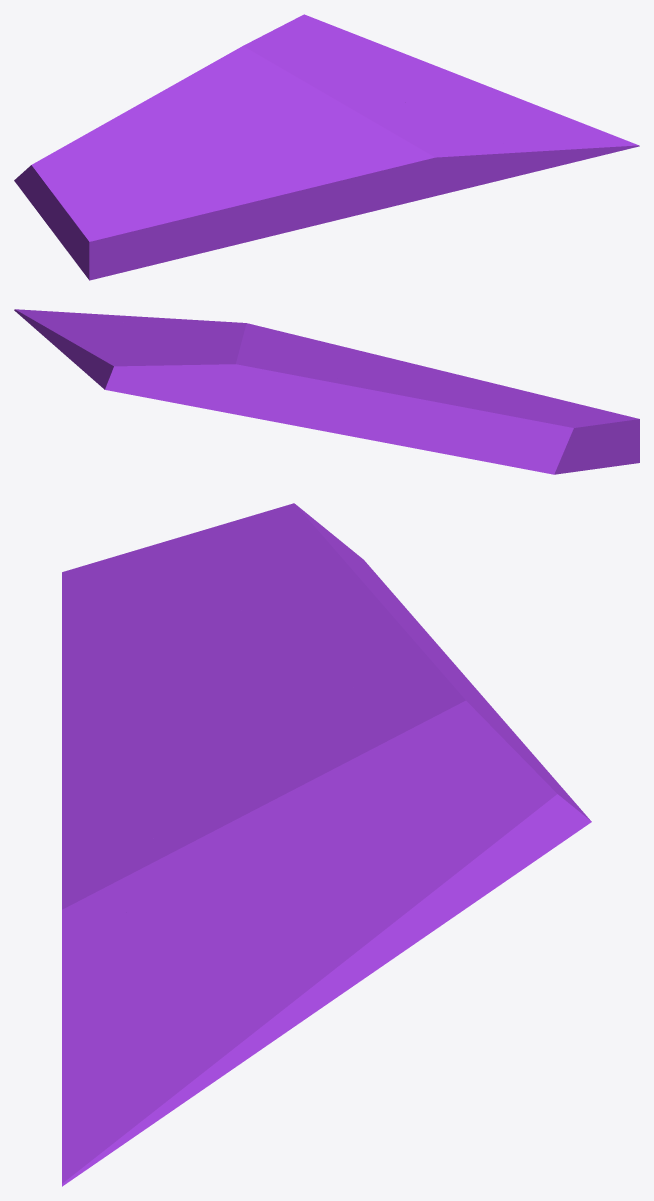
Rendered from Window_164_0_chunks.fbx.
3 renders of one model, top to bottom at view 1: azimuth 30°, elevation 25°; view 2: azimuth 150°, elevation 25°; view 3: azimuth 270°, elevation 25°, orthographic. The views are drawn at different scales.
Parts seen in each view (by area): view 1: Window_164_0_1, Window_164_0_4, Window_164_0_3, Window_164_0_9, Window_164_0_7, Window_164_0_14, Window_164_0_10, Window_164_0_12, Window_164_0_5, Window_164_0_23, Window_164_0_15, Window_164_0_21 (+7 smaller); view 2: Window_164_0_10, Window_164_0_8, Window_164_0_1, Window_164_0_13, Window_164_0_9, Window_164_0_3, Window_164_0_7, Window_164_0_4, Window_164_0_14, Window_164_0_5, Window_164_0_12, Window_164_0_20 (+6 smaller); view 3: Window_164_0_9, Window_164_0_1, Window_164_0_3, Window_164_0_7, Window_164_0_14, Window_164_0_4, Window_164_0_5, Window_164_0_20, Window_164_0_10, Window_164_0_15, Window_164_0_23, Window_164_0_12 (+6 smaller).
Part boxes in pixels (x1,y1,x2,y2): Window_164_0_1: (19, 158, 252, 280); Window_164_0_4: (272, 131, 443, 235); Window_164_0_3: (180, 92, 280, 240); Window_164_0_9: (260, 14, 478, 82); Window_164_0_7: (189, 53, 334, 124); Window_164_0_14: (431, 91, 593, 128); Window_164_0_10: (14, 118, 146, 187); Window_164_0_12: (137, 89, 217, 159); Window_164_0_5: (340, 105, 441, 156); Window_164_0_23: (537, 128, 639, 168); Window_164_0_15: (412, 99, 466, 193); Window_164_0_21: (452, 151, 547, 191); Window_164_0_10: (425, 397, 573, 474); Window_164_0_8: (156, 359, 320, 428); Window_164_0_1: (447, 378, 639, 473); Window_164_0_13: (310, 375, 439, 450); Window_164_0_9: (57, 336, 218, 399); Window_164_0_3: (320, 360, 473, 388); Window_164_0_7: (214, 344, 322, 385); Window_164_0_4: (239, 322, 424, 366); Window_164_0_14: (26, 316, 147, 341); Window_164_0_5: (173, 322, 282, 345); Window_164_0_12: (322, 374, 474, 397); Window_164_0_20: (50, 332, 190, 347); Window_164_0_9: (298, 726, 591, 1012); Window_164_0_1: (62, 503, 294, 713); Window_164_0_3: (62, 652, 362, 755); Window_164_0_7: (240, 650, 441, 801); Window_164_0_14: (127, 927, 272, 1138); Window_164_0_4: (62, 750, 210, 918); Window_164_0_5: (63, 810, 237, 918); Window_164_0_20: (247, 862, 321, 1041); Window_164_0_10: (237, 504, 428, 634); Window_164_0_15: (62, 900, 253, 959); Window_164_0_23: (62, 1048, 133, 1186); Window_164_0_12: (220, 604, 374, 681).
Bounding box in the file's own units: 1494 × 256 × 623.
